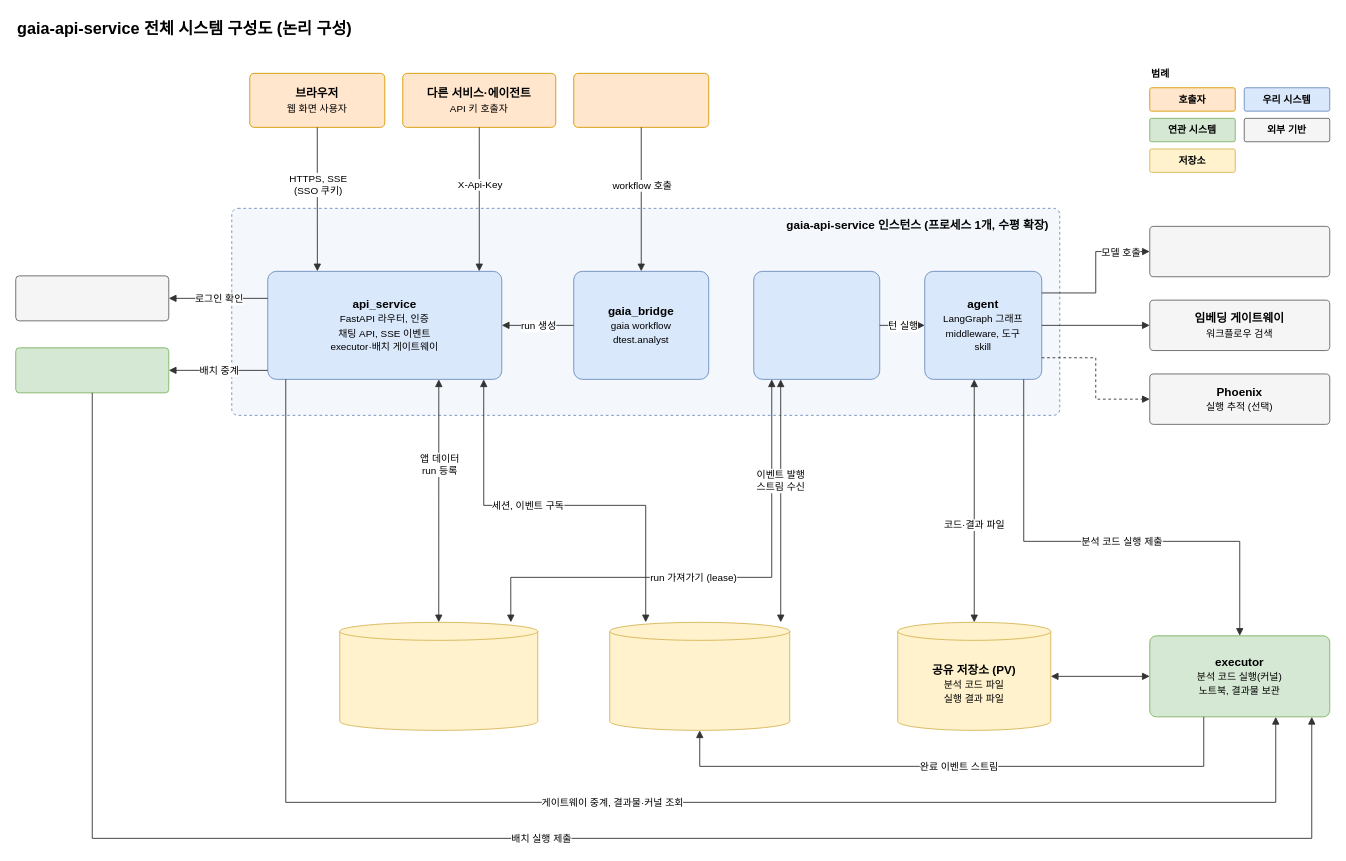
The diagram is 1346 pixels wide and 861 high, and some of its shapes have lost their labels. The shapes that lost their labels are listed below. From the top down, each one's box as (x1, y1, x2, y2) in pixels, then its label:
(573, 72, 709, 127): gaia 채팅 화면 사내 채팅 플랫폼
(1149, 225, 1330, 277): LLM 게이트웨이 OpenAI 호환
(15, 275, 169, 321): SSO (IdP)
(753, 270, 880, 379): worker RunScheduler executor 이벤트 수신 메모리, 배치 리포트
(15, 347, 169, 393): batch 배치 등록·스케줄
(339, 621, 538, 730): PostgreSQL 앱 테이블, run 큐 pgvector (워크플로우 검색) LangGraph 체크포인트·store
(609, 621, 790, 730): Redis 로그인 세션 이벤트 발행/구독 executor 이벤트 스트림
